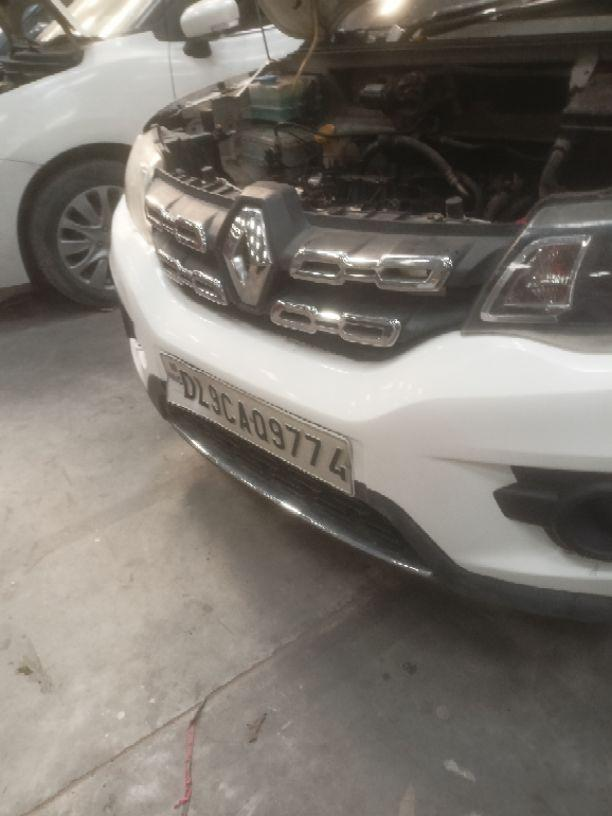license_plate: (157, 349, 356, 498)
